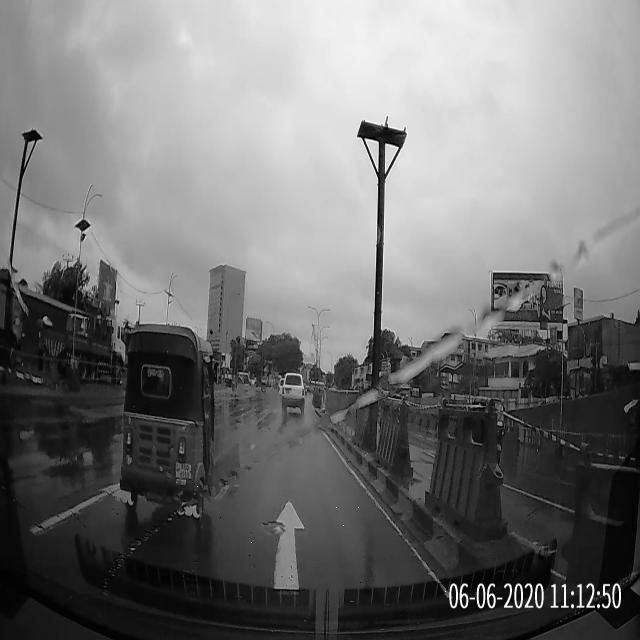forward: (165, 469, 446, 593)
